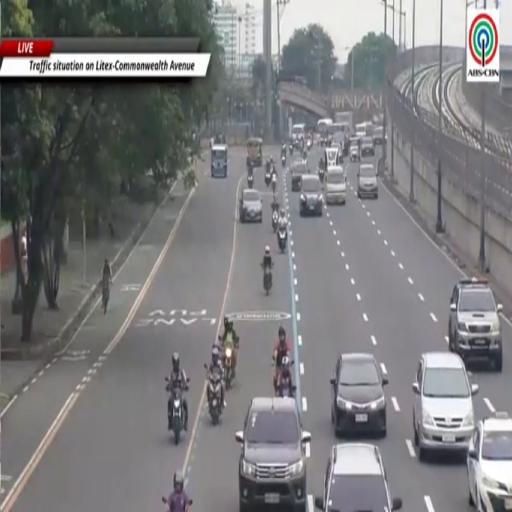car: (236, 397, 311, 511), (413, 351, 478, 460), (315, 443, 402, 511), (448, 278, 503, 372), (330, 354, 387, 436), (467, 412, 511, 511), (299, 174, 324, 216), (325, 166, 346, 204), (239, 188, 262, 222), (357, 164, 378, 199), (290, 159, 309, 191), (211, 144, 227, 178), (324, 147, 339, 167), (361, 136, 375, 156), (349, 137, 360, 162), (373, 126, 383, 146)
motorcycle: (166, 377, 184, 444), (207, 371, 223, 424), (223, 347, 233, 390), (274, 378, 296, 397), (224, 347, 233, 390), (277, 378, 296, 397), (264, 267, 272, 295), (278, 229, 287, 253), (272, 211, 278, 233), (271, 197, 279, 213), (264, 170, 272, 186), (162, 496, 170, 511), (318, 168, 324, 183), (248, 174, 253, 188), (272, 180, 276, 194), (307, 139, 311, 150), (289, 144, 293, 155), (282, 155, 285, 167)
truck: (335, 111, 353, 133)
